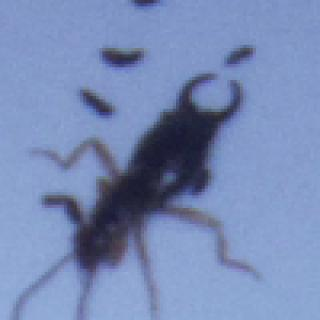earwig: (15, 71, 265, 319)
